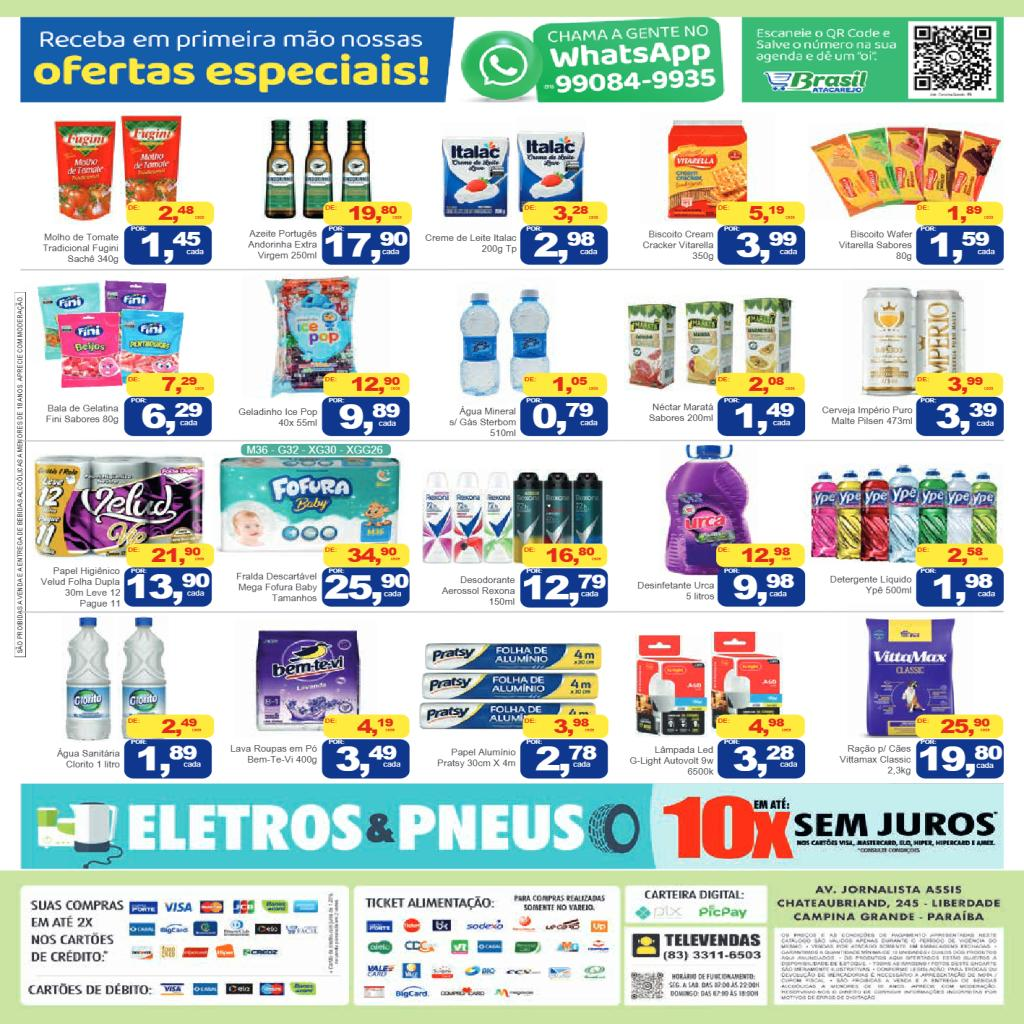price: (918, 744, 1002, 778), (324, 230, 409, 263), (521, 574, 607, 606), (324, 573, 408, 605), (126, 573, 210, 604), (730, 744, 802, 778), (533, 744, 600, 778), (532, 231, 603, 263), (137, 744, 203, 778), (532, 401, 599, 434), (934, 401, 999, 435), (336, 402, 402, 435), (732, 572, 796, 606), (334, 745, 402, 777), (731, 230, 799, 262), (930, 230, 998, 262), (931, 573, 998, 605), (140, 231, 205, 263), (142, 402, 203, 436), (734, 402, 796, 434)
product_text: (36, 564, 122, 610), (628, 742, 716, 780), (232, 569, 319, 604), (38, 231, 120, 267), (639, 227, 716, 265), (836, 227, 914, 263), (440, 573, 517, 609), (836, 742, 913, 778), (244, 227, 320, 262), (445, 404, 518, 438), (226, 740, 320, 766), (818, 404, 915, 428), (828, 572, 914, 598), (433, 746, 517, 772), (422, 233, 516, 256), (40, 402, 122, 427), (237, 405, 318, 430), (634, 579, 716, 603), (53, 746, 122, 772), (646, 402, 716, 424)
